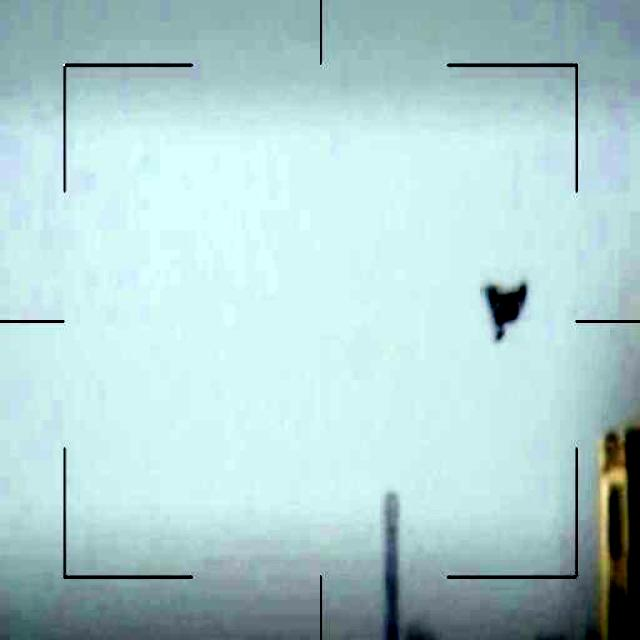bird: (480, 276, 539, 351)
